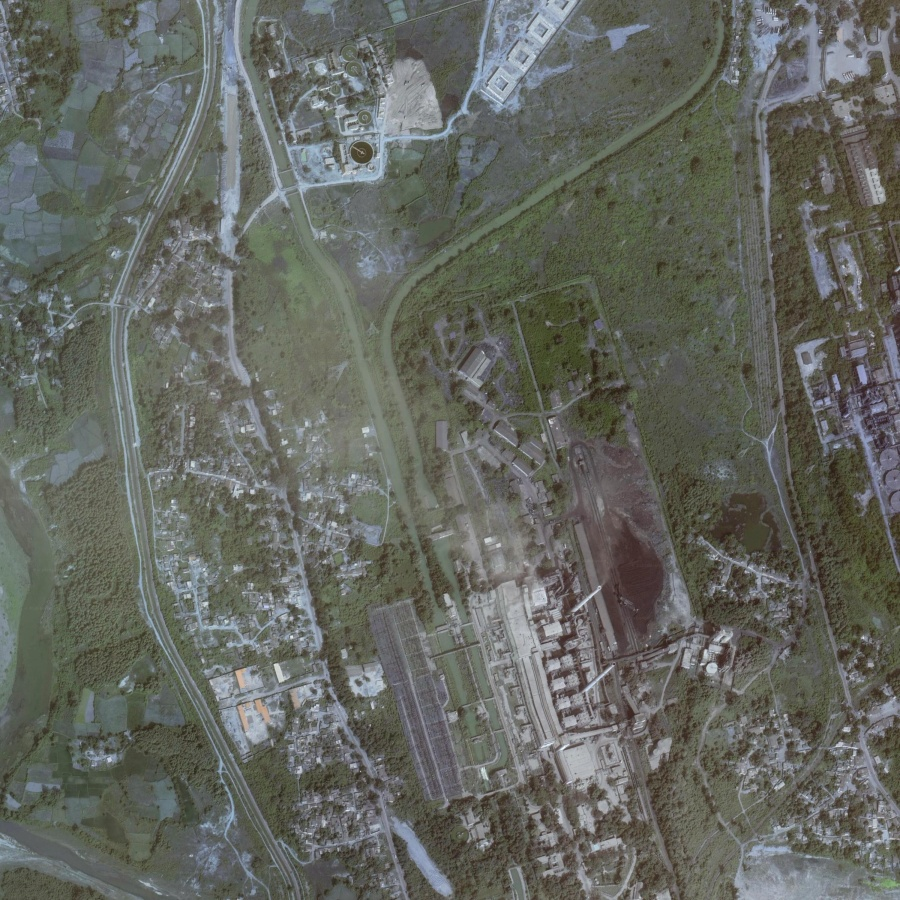PowerPlant: (477, 430, 674, 728)
